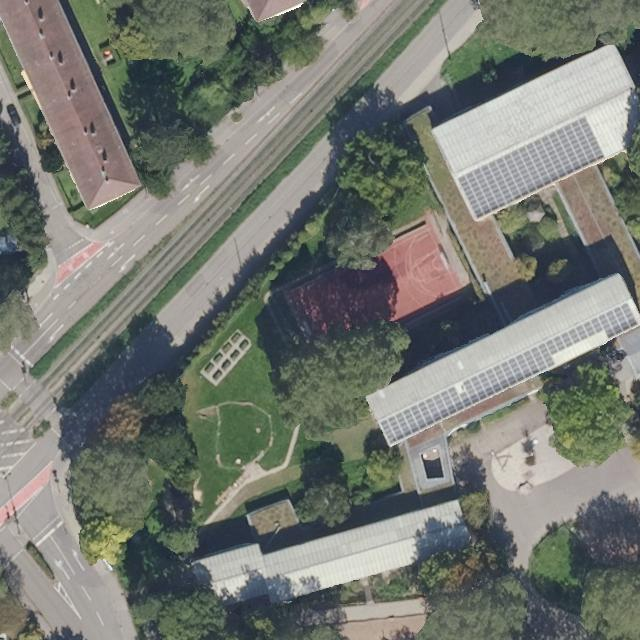PV: (377, 300, 639, 447), (456, 115, 606, 221)
